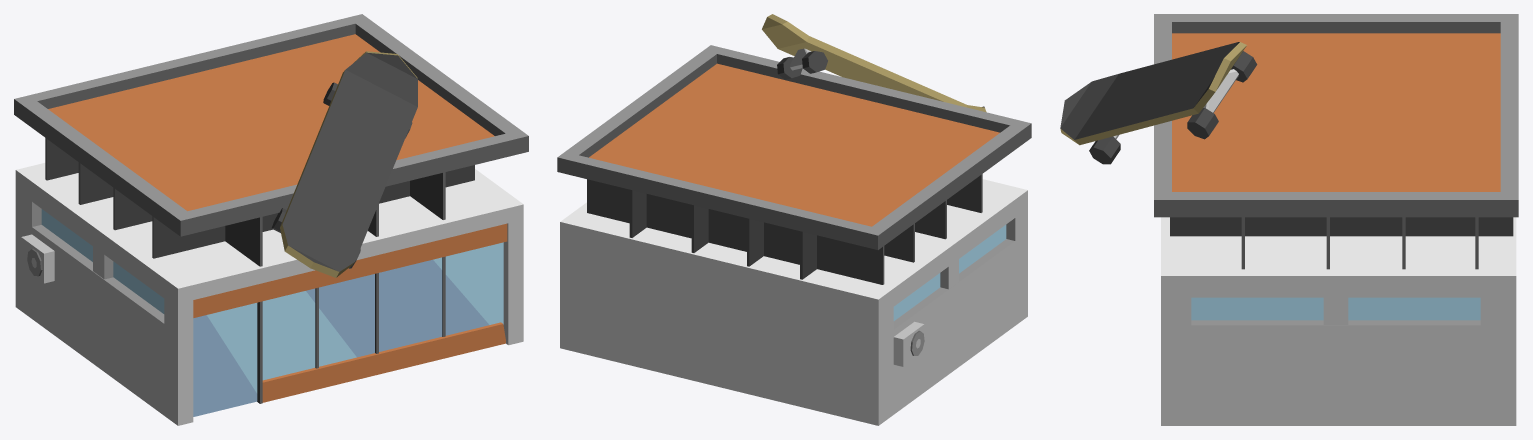
The model's file is services_store_010.fbx.
The picture shows the model from 3 angles, left to right: view 1: azimuth 30°, elevation 25°; view 2: azimuth 150°, elevation 25°; view 3: azimuth 270°, elevation 25°; orthographic projection. The views are drawn at different scales.
Visible parts, largest first — view 1: services_store_010; view 2: services_store_010; view 3: services_store_010.
Boxes of the visible parts, box(x1,y1,x2,y2) form: services_store_010: box(14, 14, 528, 425); services_store_010: box(557, 14, 1031, 425); services_store_010: box(1060, 14, 1518, 425).
Bounding box in the file's own units: 742 × 575 × 748.
